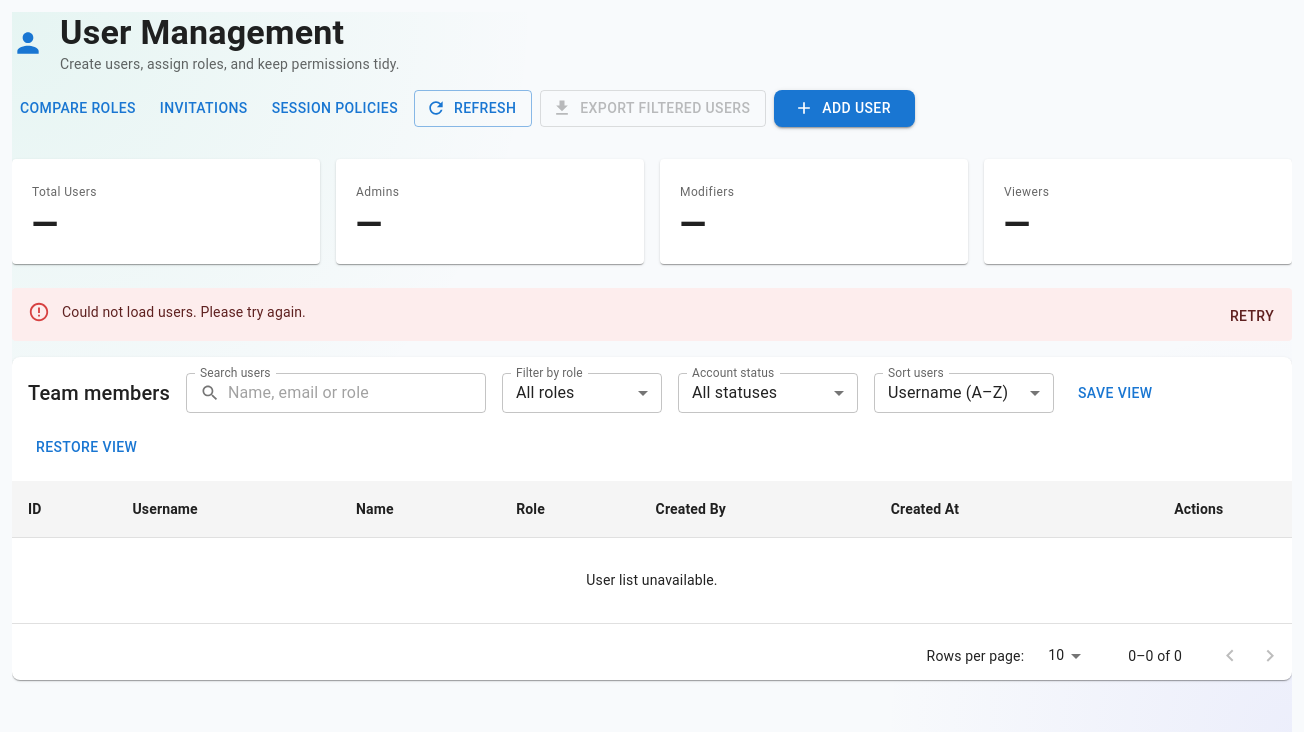
Test: User Management › shows a recoverable error instead of an empty user list
Expected: the message shows "Could not load users", [62, 304, 197, 320]
Click the button "Retry" at (1252, 317), box [1220, 298, 1284, 335]
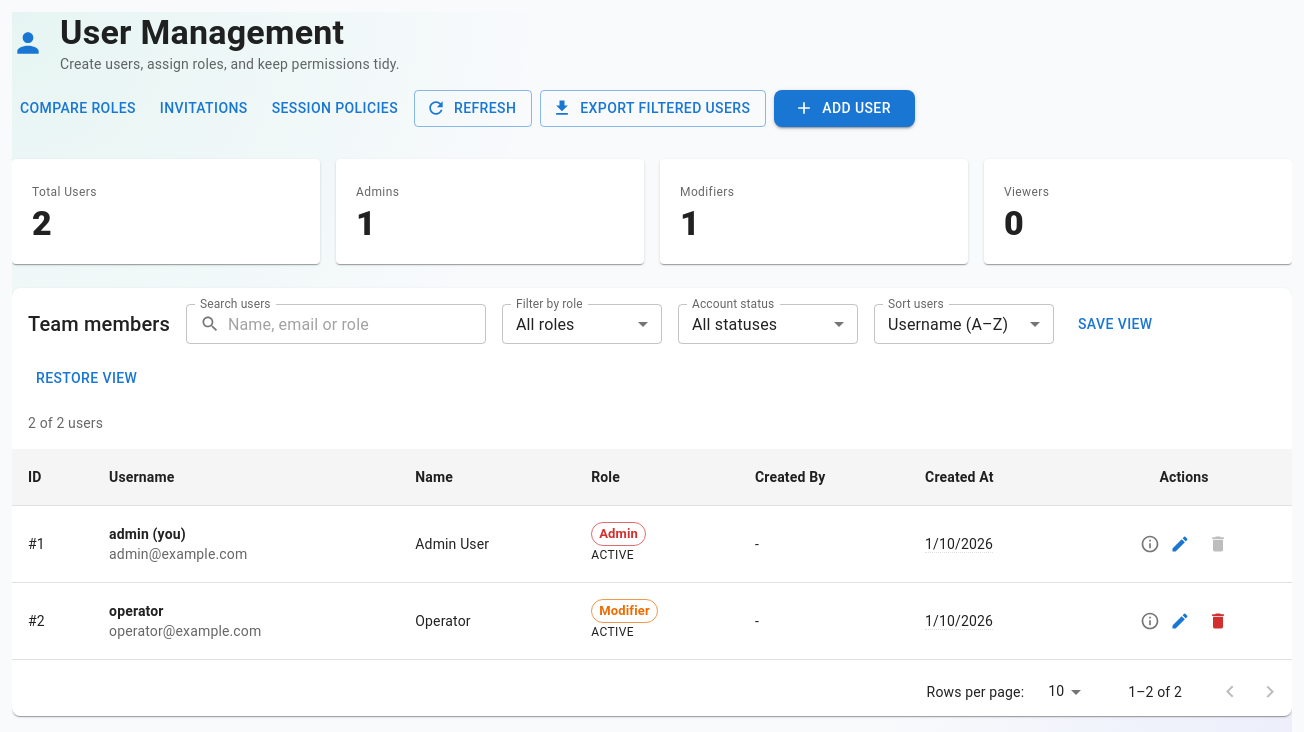
Expected: the text "operator@example.com" is shown, [109, 623, 261, 639]
